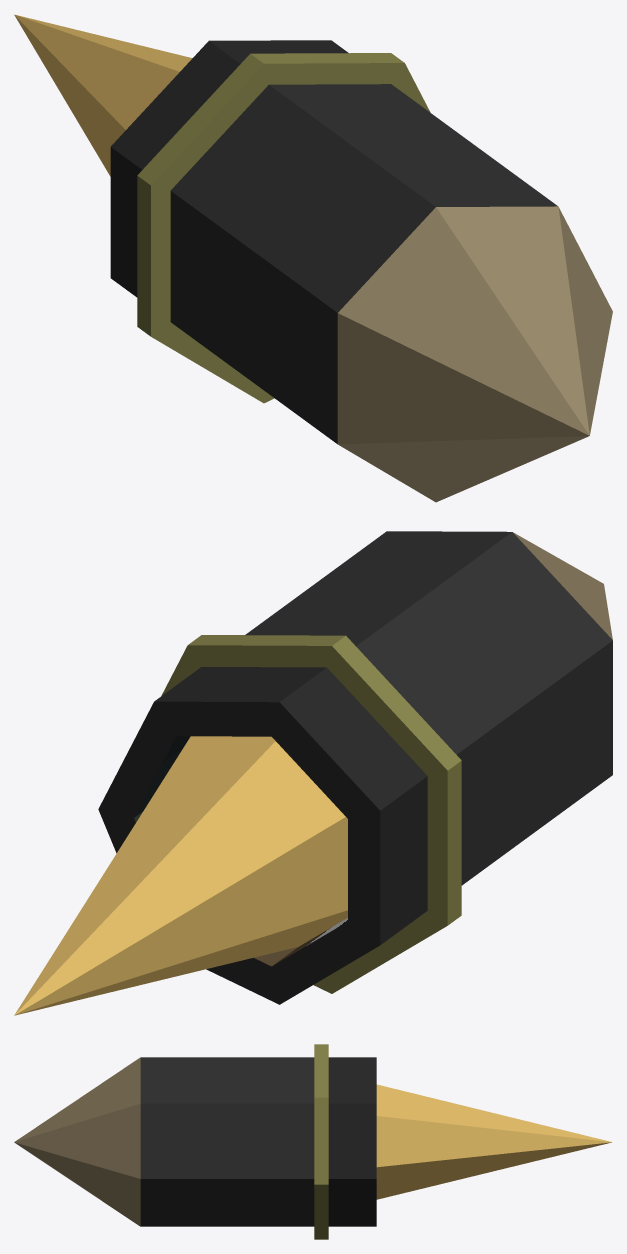
File: rocket.gltf
3 renders of one model, top to bottom at view 1: azimuth 30°, elevation 25°; view 2: azimuth 150°, elevation 25°; view 3: azimuth 270°, elevation 25°, orthographic. The views are drawn at different scales.
Parts seen in each view (by area): view 1: ground_stone_.001; view 2: ground_stone_.001; view 3: ground_stone_.001.
Part boxes in pixels (box(x1,y1,x2,y2)): ground_stone_.001: box(14, 14, 612, 502); ground_stone_.001: box(14, 531, 612, 1015); ground_stone_.001: box(14, 1044, 612, 1239).
Bounding box in the file's own units: 0.3341 × 0.3427 × 1.05.
1 material, 1 textured.
